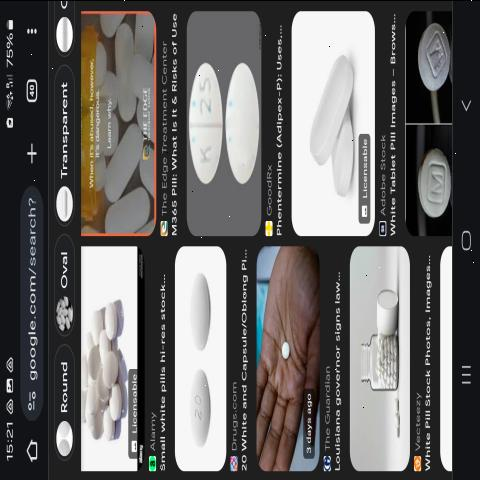Pill: (306, 37, 357, 158), (186, 34, 218, 202), (222, 50, 253, 198), (106, 110, 145, 208), (414, 5, 449, 107), (418, 126, 452, 227), (184, 252, 214, 360), (182, 366, 212, 456), (102, 284, 123, 344), (276, 310, 297, 362)
